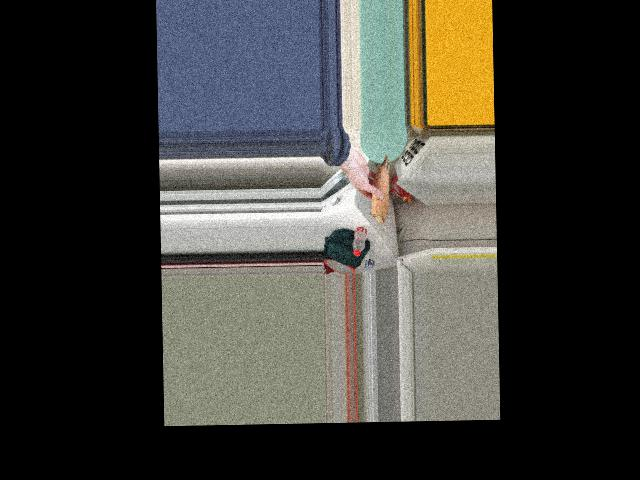sweet_potato: (370, 156, 389, 219)
